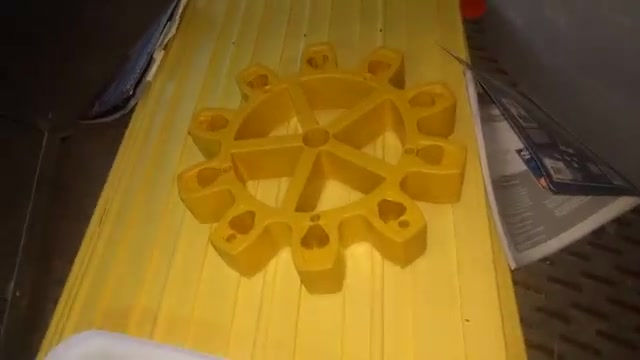gear: (173, 30, 468, 308)
